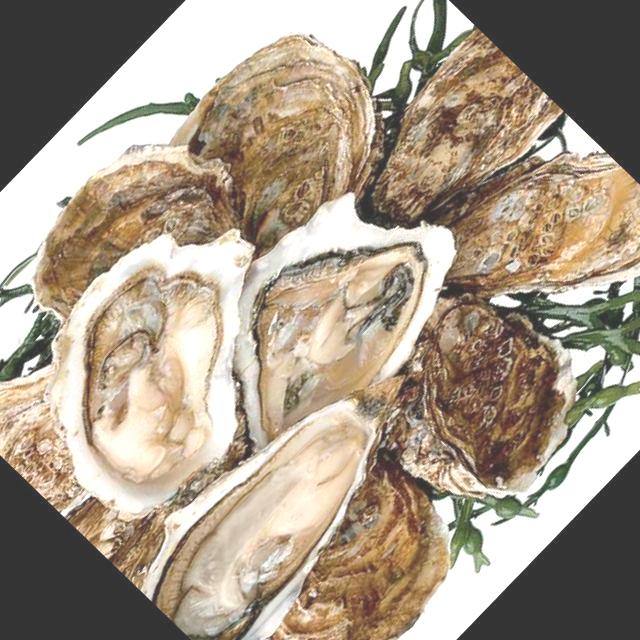Oyster-Closed: (191, 35, 379, 246), (361, 36, 563, 230), (388, 298, 574, 497), (30, 146, 237, 324), (429, 157, 640, 302), (286, 471, 454, 640), (0, 356, 84, 512), (64, 490, 158, 590)
Oyster-Open: (143, 400, 379, 640), (60, 232, 253, 504), (249, 198, 455, 447)
